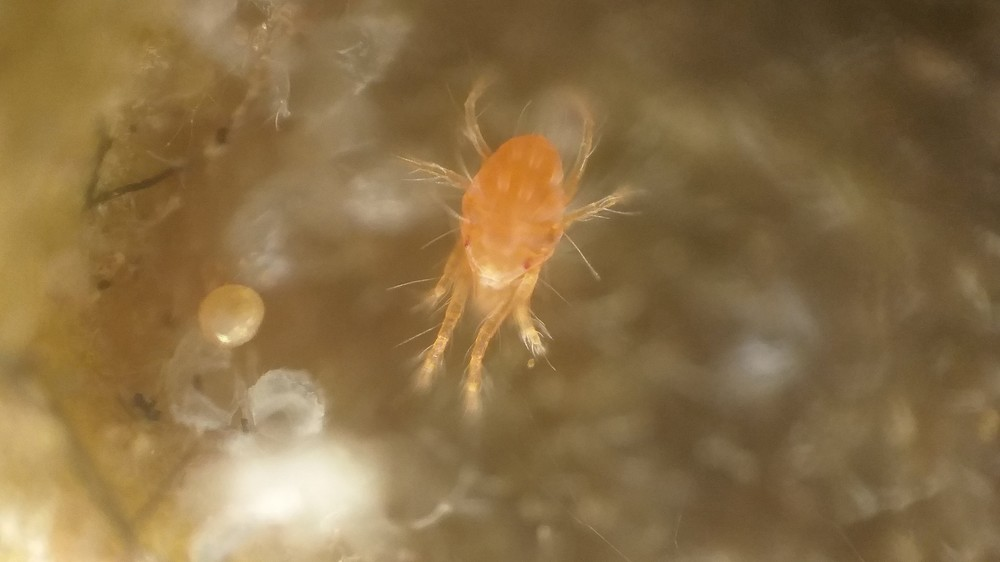Aracnido Rojo: (371, 64, 668, 440)
